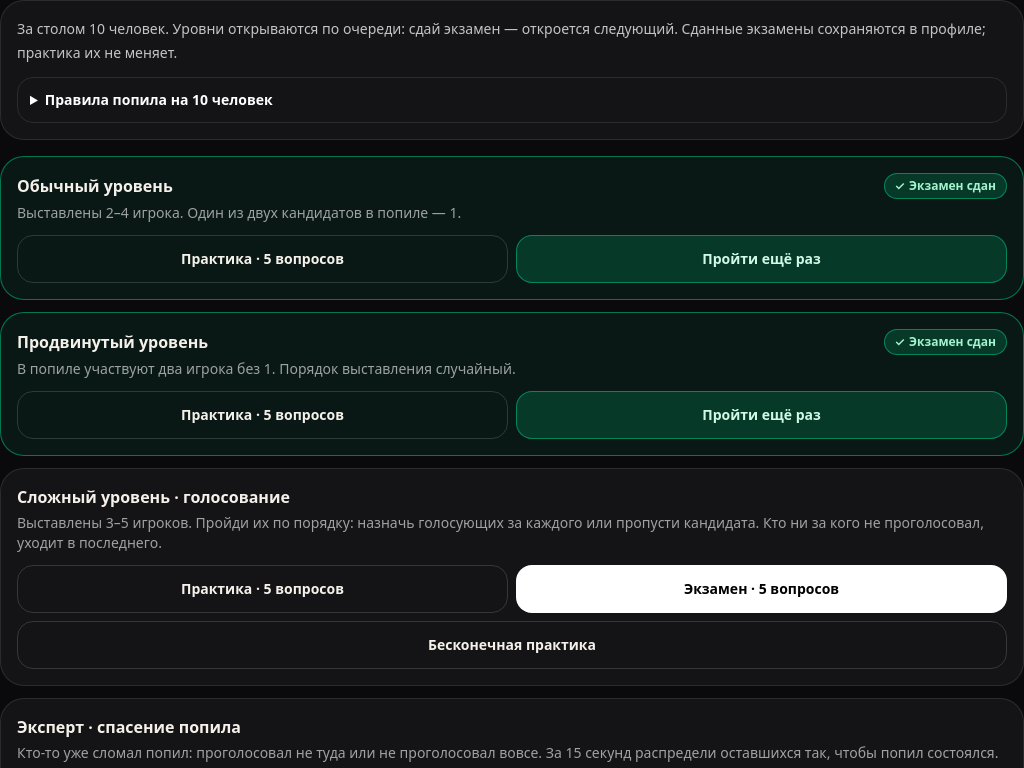
Test: zero-round split-vote training › fails an advanced exam immediately after its first mistake and allows a retry
Click the 2nd button "Пройти ещё раз". click: (762, 415)
box: [516,391,1007,439]
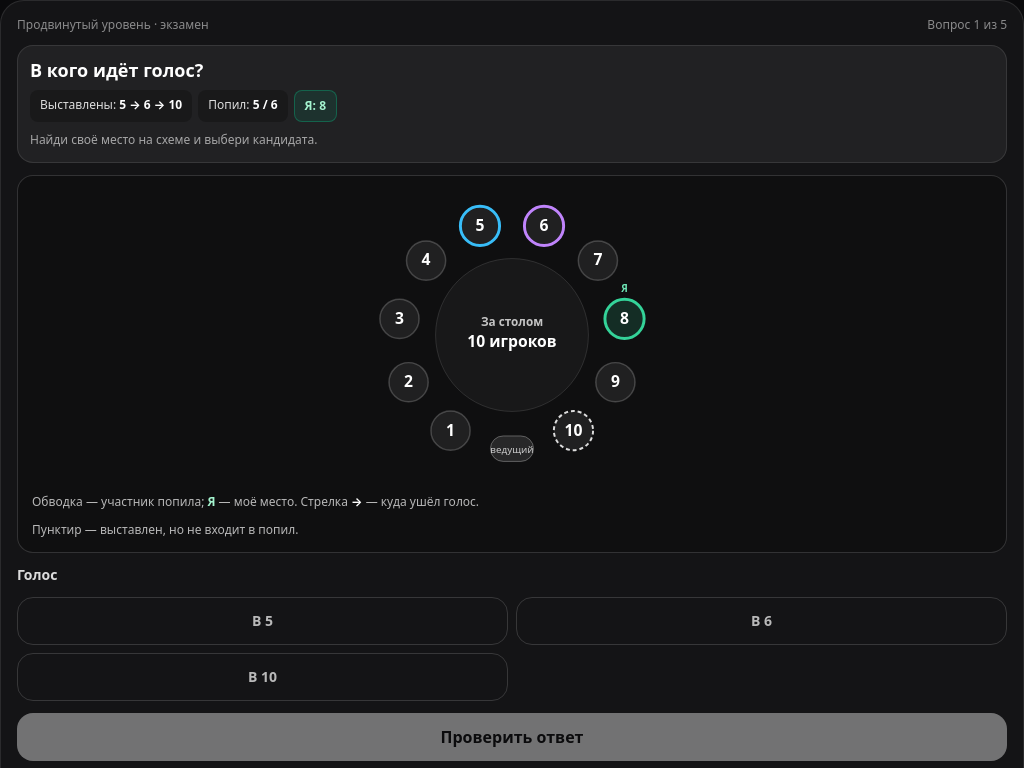
Click the button "В 6". click: (762, 621)
box: [516,597,1007,645]
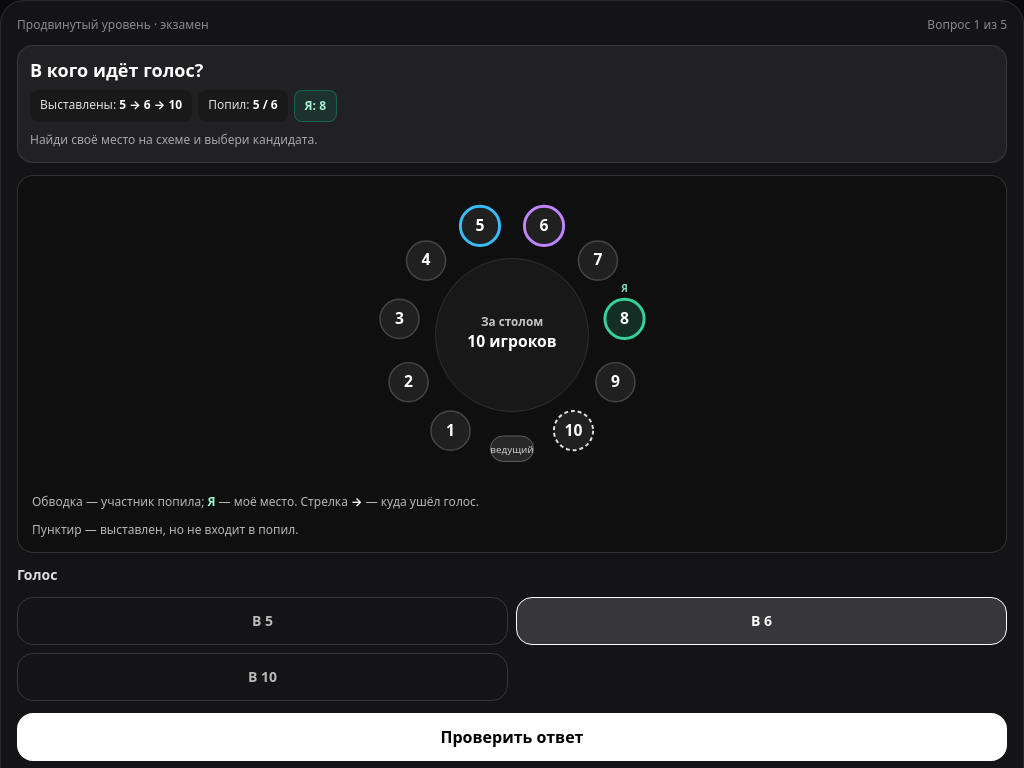
Click the button "Проверить ответ". click: (512, 737)
box: [17,713,1007,761]
(page scrolled)
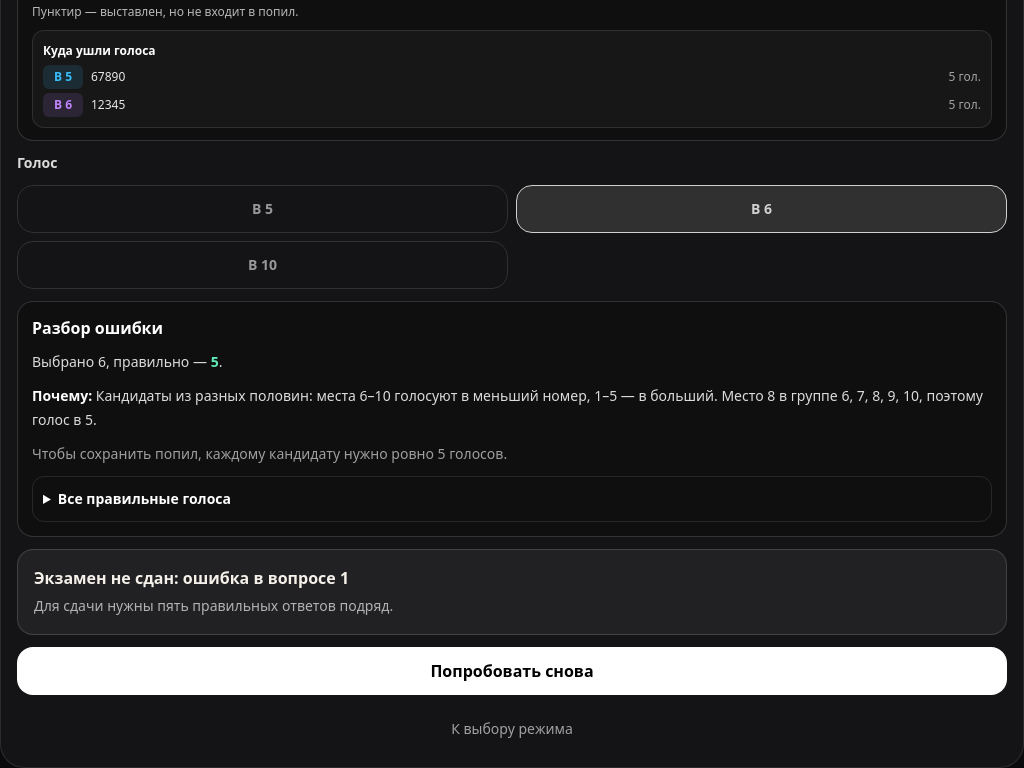
Result: the element with test id "split-vote-result" shows "Экзамен не сдан: ошибка в вопросе 1" at [34,567,349,589]
Click the button "Попробовать снова". click: (512, 671)
box: [17,647,1007,695]
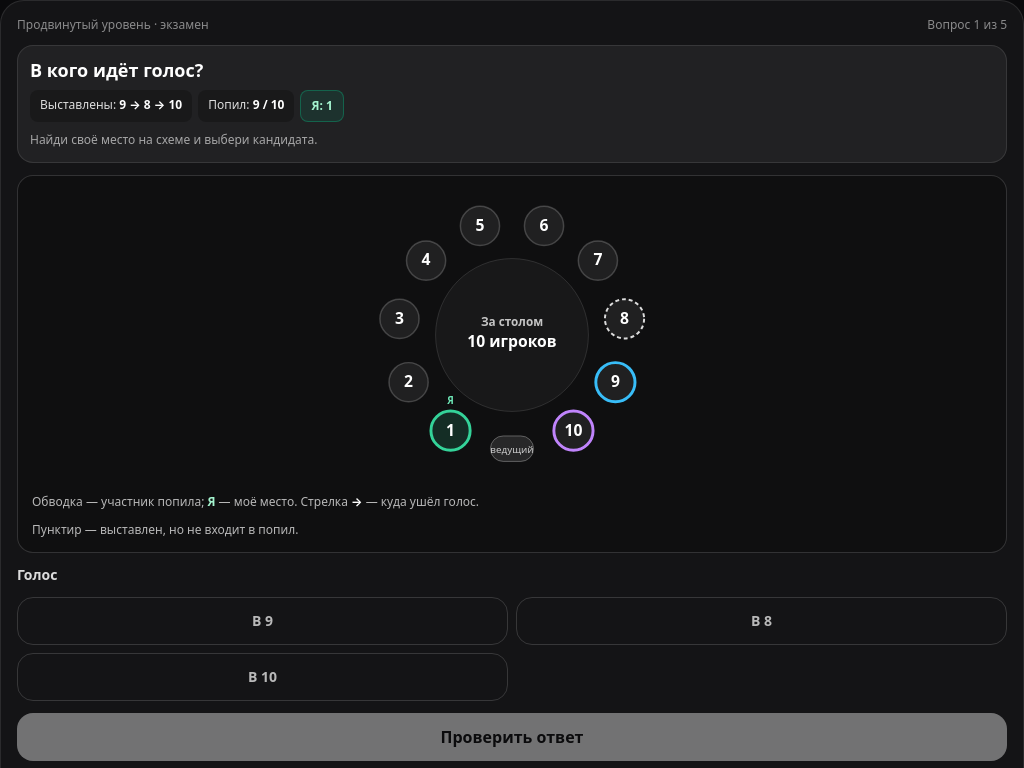
Result: the element with test id "split-vote-result" is gone
